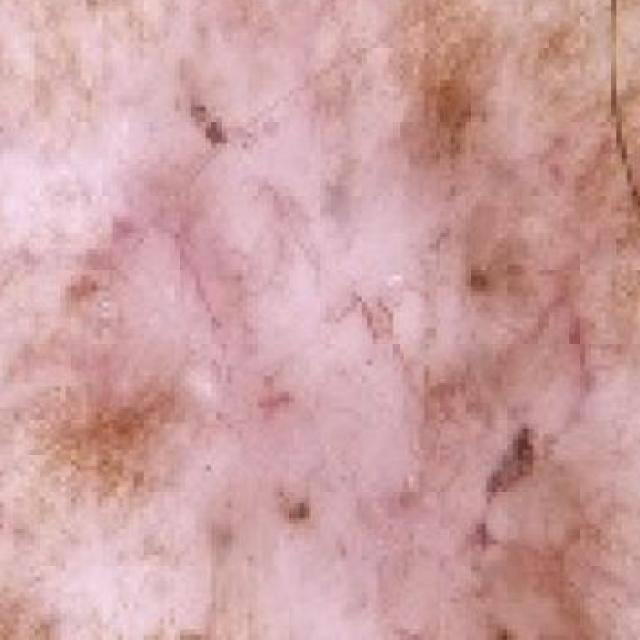BCC: (58, 20, 602, 640)
